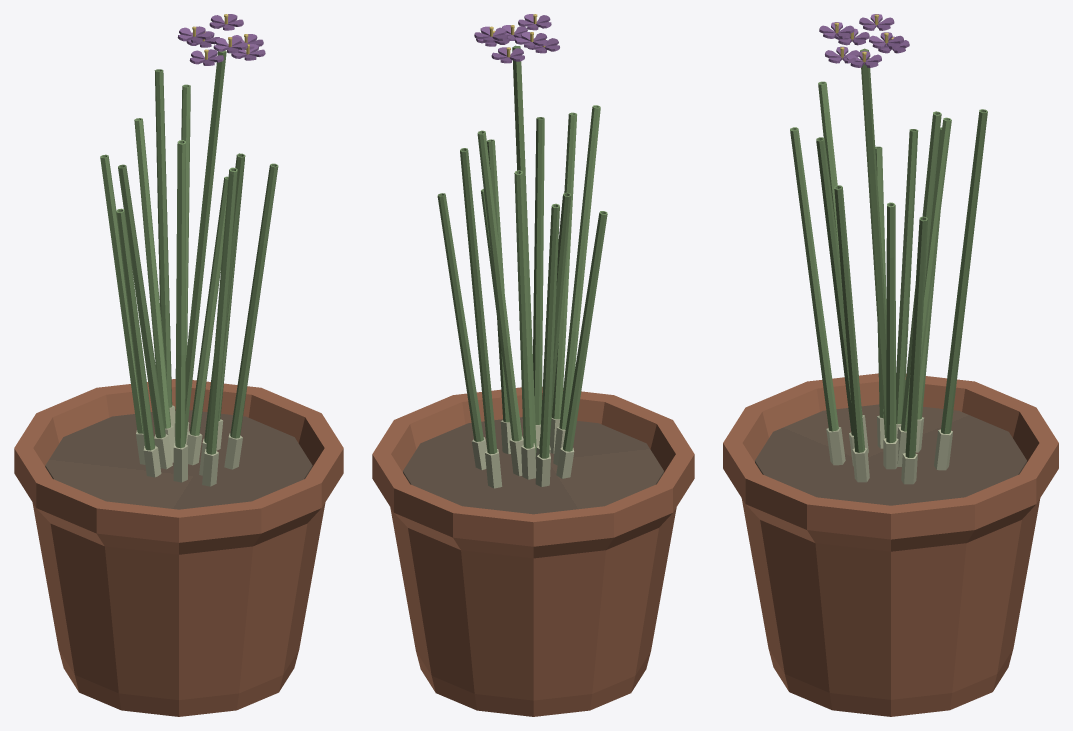
The model's file is chives.glb.
The picture shows the model from 3 angles, left to right: view 1: azimuth 30°, elevation 25°; view 2: azimuth 150°, elevation 25°; view 3: azimuth 270°, elevation 25°; orthographic projection. The views are drawn at different scales.
Parts seen in each view (by area): view 1: chives/review-terra-vessel, chives/review-rooted-soil, chives/petiole-025, chives/hollow-tubular-leaf-016, chives/hollow-tubular-leaf-024, chives/hollow-tubular-leaf-014, chives/hollow-tubular-leaf-006, chives/hollow-tubular-leaf-012, chives/hollow-tubular-leaf-020, chives/hollow-tubular-leaf-010, chives/hollow-tubular-leaf-002, chives/hollow-tubular-leaf-004 (+4 smaller); view 2: chives/review-terra-vessel, chives/review-rooted-soil, chives/hollow-tubular-leaf-016, chives/hollow-tubular-leaf-008, chives/hollow-tubular-leaf-024, chives/hollow-tubular-leaf-022, chives/hollow-tubular-leaf-014, chives/hollow-tubular-leaf-004, chives/hollow-tubular-leaf-018, chives/hollow-tubular-leaf-010, chives/hollow-tubular-leaf-006, chives/petiole-025 (+3 smaller); view 3: chives/review-terra-vessel, chives/review-rooted-soil, chives/hollow-tubular-leaf-024, chives/petiole-025, chives/hollow-tubular-leaf-006, chives/hollow-tubular-leaf-020, chives/hollow-tubular-leaf-012, chives/hollow-tubular-leaf-018, chives/hollow-tubular-leaf-002, chives/hollow-tubular-leaf-022, chives/hollow-tubular-leaf-014, chives/hollow-tubular-leaf-008 (+5 smaller).
Boxes of the visible parts, x1,y1,x2,y2 form: chives/review-terra-vessel: [14, 379, 343, 716]; chives/review-rooted-soil: [45, 409, 312, 509]; chives/petiole-025: [185, 50, 226, 443]; chives/hollow-tubular-leaf-016: [175, 140, 185, 448]; chives/hollow-tubular-leaf-024: [154, 69, 172, 407]; chives/hollow-tubular-leaf-014: [134, 118, 170, 428]; chives/hollow-tubular-leaf-006: [206, 167, 237, 454]; chives/hollow-tubular-leaf-012: [230, 163, 278, 438]; chives/hollow-tubular-leaf-020: [118, 164, 165, 438]; chives/hollow-tubular-leaf-010: [116, 208, 155, 450]; chives/hollow-tubular-leaf-002: [189, 176, 228, 435]; chives/hollow-tubular-leaf-004: [100, 154, 143, 433]; chives/review-terra-vessel: [372, 387, 694, 716]; chives/review-rooted-soil: [403, 417, 663, 514]; chives/hollow-tubular-leaf-016: [559, 105, 600, 429]; chives/hollow-tubular-leaf-008: [477, 130, 521, 441]; chives/hollow-tubular-leaf-024: [460, 148, 497, 454]; chives/hollow-tubular-leaf-022: [533, 117, 544, 424]; chives/hollow-tubular-leaf-014: [514, 170, 533, 448]; chives/hollow-tubular-leaf-004: [539, 203, 559, 458]; chives/hollow-tubular-leaf-018: [437, 193, 483, 441]; chives/hollow-tubular-leaf-010: [563, 211, 607, 451]; chives/hollow-tubular-leaf-006: [552, 112, 576, 419]; chives/petiole-025: [512, 45, 536, 456]; chives/review-terra-vessel: [723, 373, 1058, 716]; chives/review-rooted-soil: [755, 404, 1026, 505]; chives/hollow-tubular-leaf-024: [941, 109, 987, 433]; chives/petiole-025: [860, 48, 886, 438]; chives/hollow-tubular-leaf-006: [790, 127, 838, 431]; chives/hollow-tubular-leaf-020: [896, 129, 918, 424]; chives/hollow-tubular-leaf-012: [834, 185, 865, 452]; chives/hollow-tubular-leaf-018: [905, 216, 927, 457]; chives/hollow-tubular-leaf-002: [886, 202, 896, 442]; chives/hollow-tubular-leaf-022: [816, 137, 853, 435]; chives/hollow-tubular-leaf-014: [919, 117, 951, 382]; chives/hollow-tubular-leaf-008: [901, 111, 941, 431].
Bounding box in the file's own units: 0.19 × 0.4099 × 0.19.
6 materials, 6 textured.
